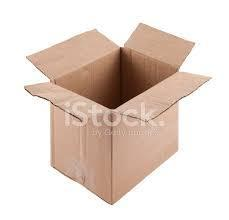box: (23, 22, 212, 204)
